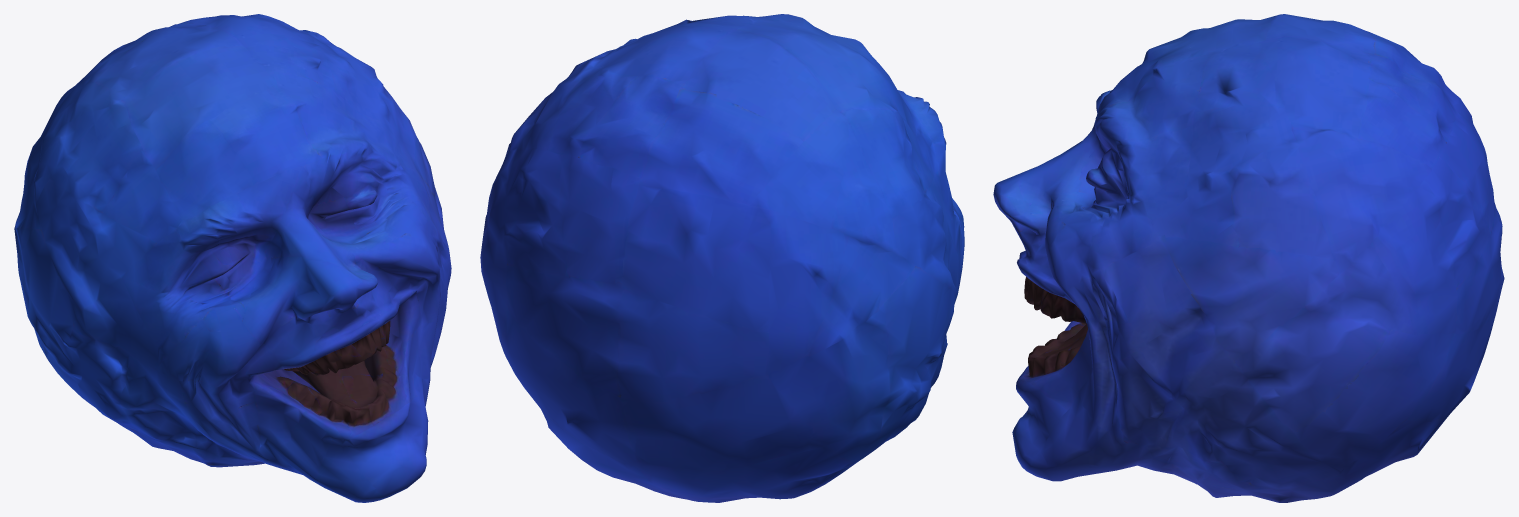
File: moon-grin.glb
3 renders of one model, left to right at view 1: azimuth 30°, elevation 25°; view 2: azimuth 150°, elevation 25°; view 3: azimuth 270°, elevation 25°, orthographic. The views are drawn at different scales.
Size of the model in its own units: 1.74 by 1.81 by 1.9.
Materials: 1 (1 with a texture image).
